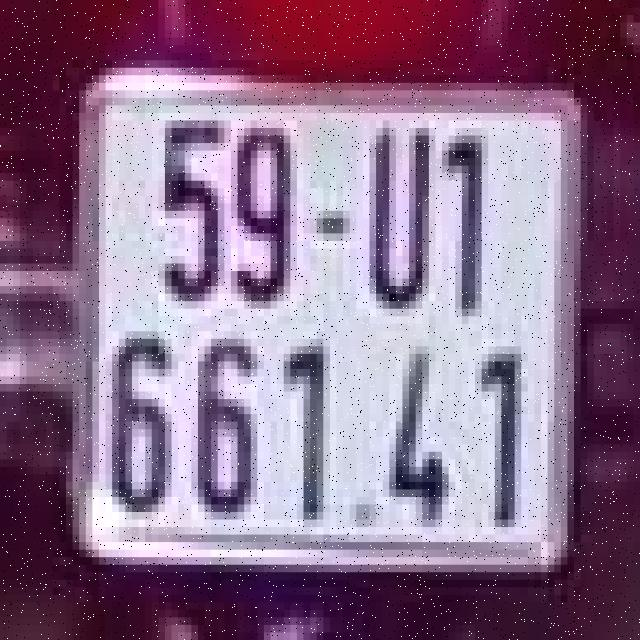1: (472, 316, 551, 557), (280, 327, 346, 531), (442, 117, 495, 320)
4: (372, 335, 458, 546)
5: (148, 105, 228, 309)
6: (86, 323, 172, 520), (188, 327, 267, 531)
9: (231, 117, 303, 320)
U: (353, 109, 432, 320)
